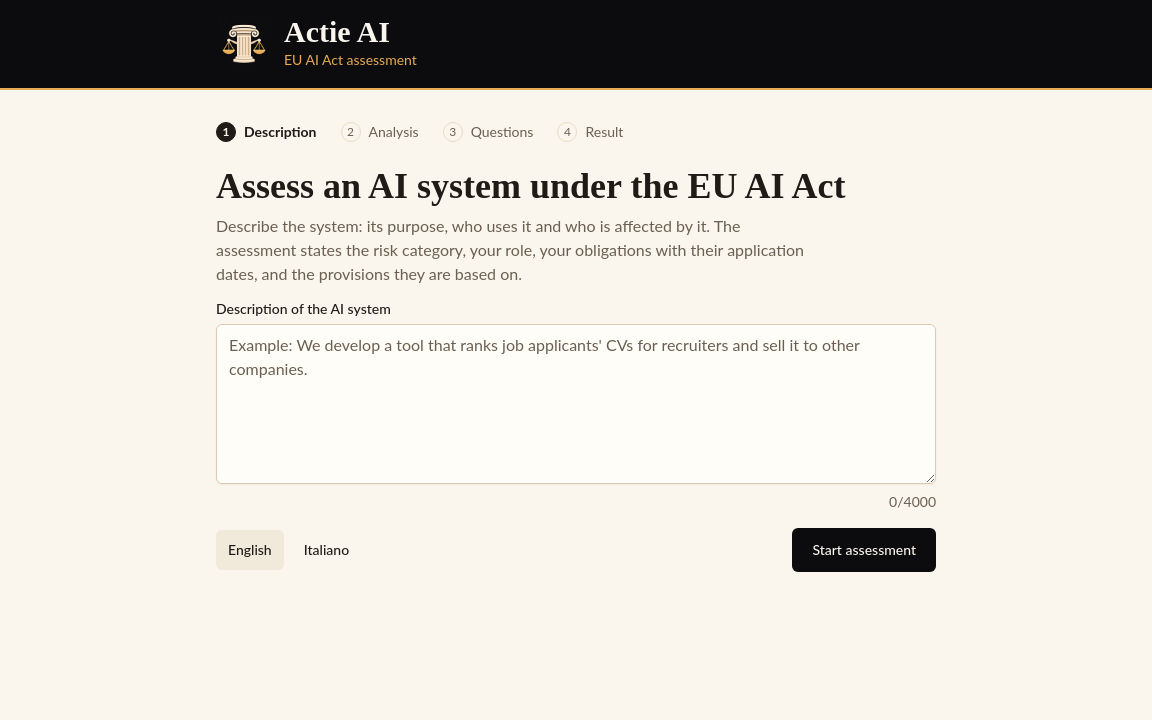
Test: lets the user start over from the questions
Type "A bank scores consumers' credit-worthiness." into the text box labelled "Description of the AI system" at (576, 404), box [216, 324, 936, 484]
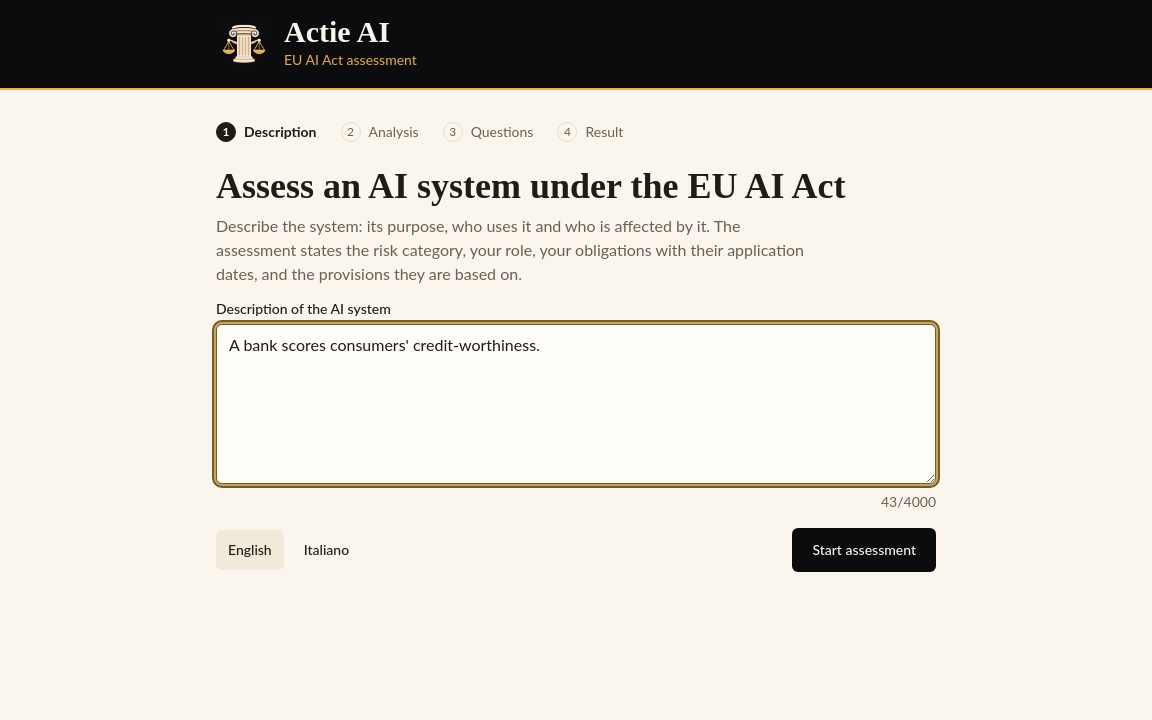
Click the button "Start assessment" at (864, 550), box [792, 528, 936, 572]
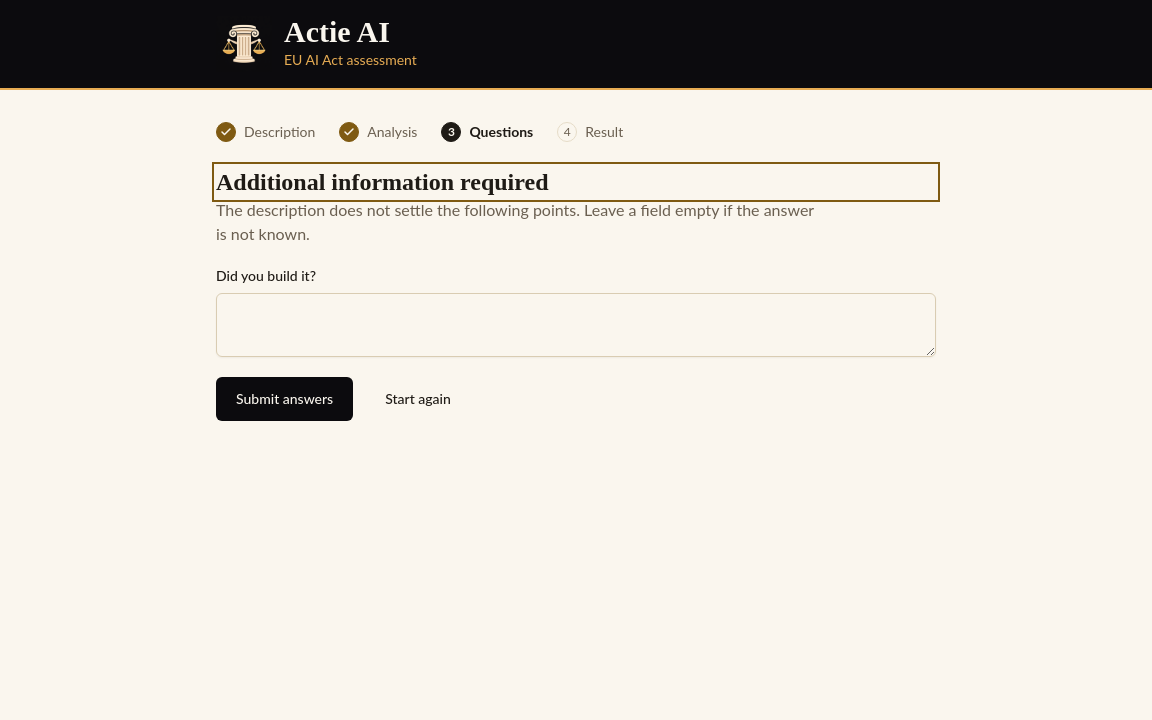
Click the button "Start again" at (418, 399), box [365, 377, 471, 421]
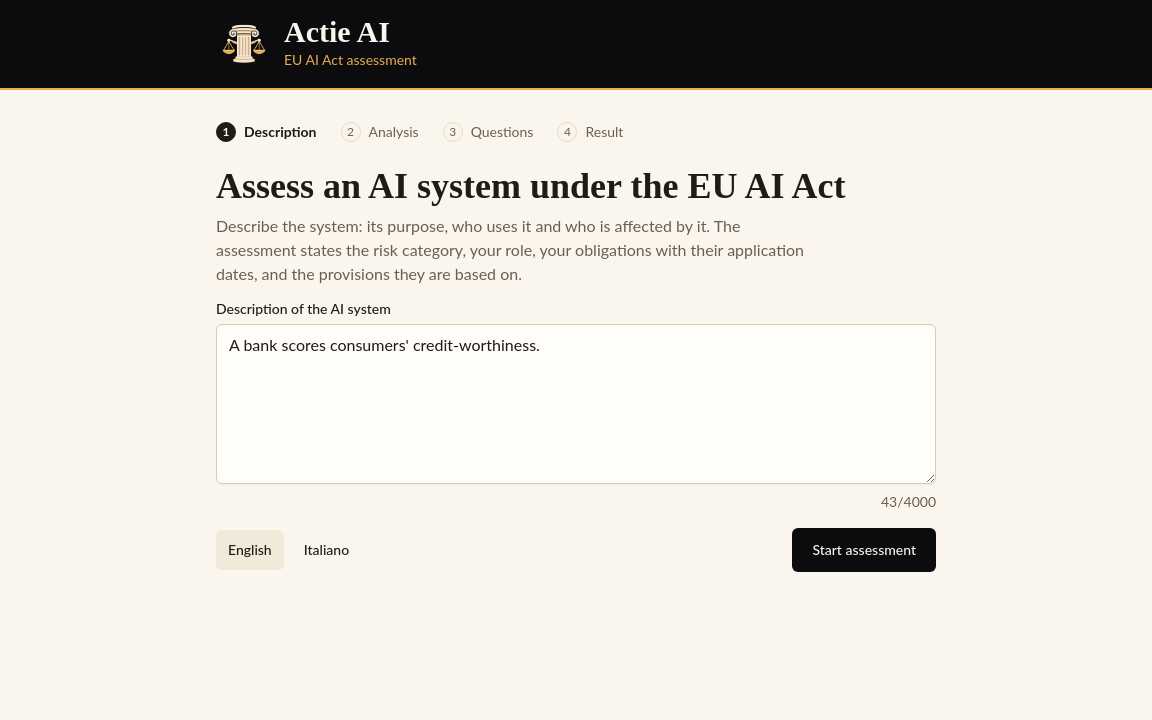
Now the text box labelled "Description of the AI system" is shown, box [216, 324, 936, 484]
